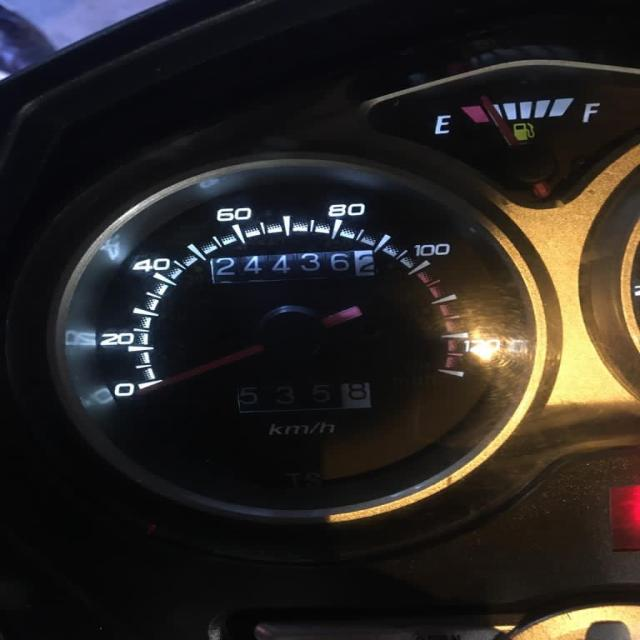odometer: (206, 249, 376, 285)
